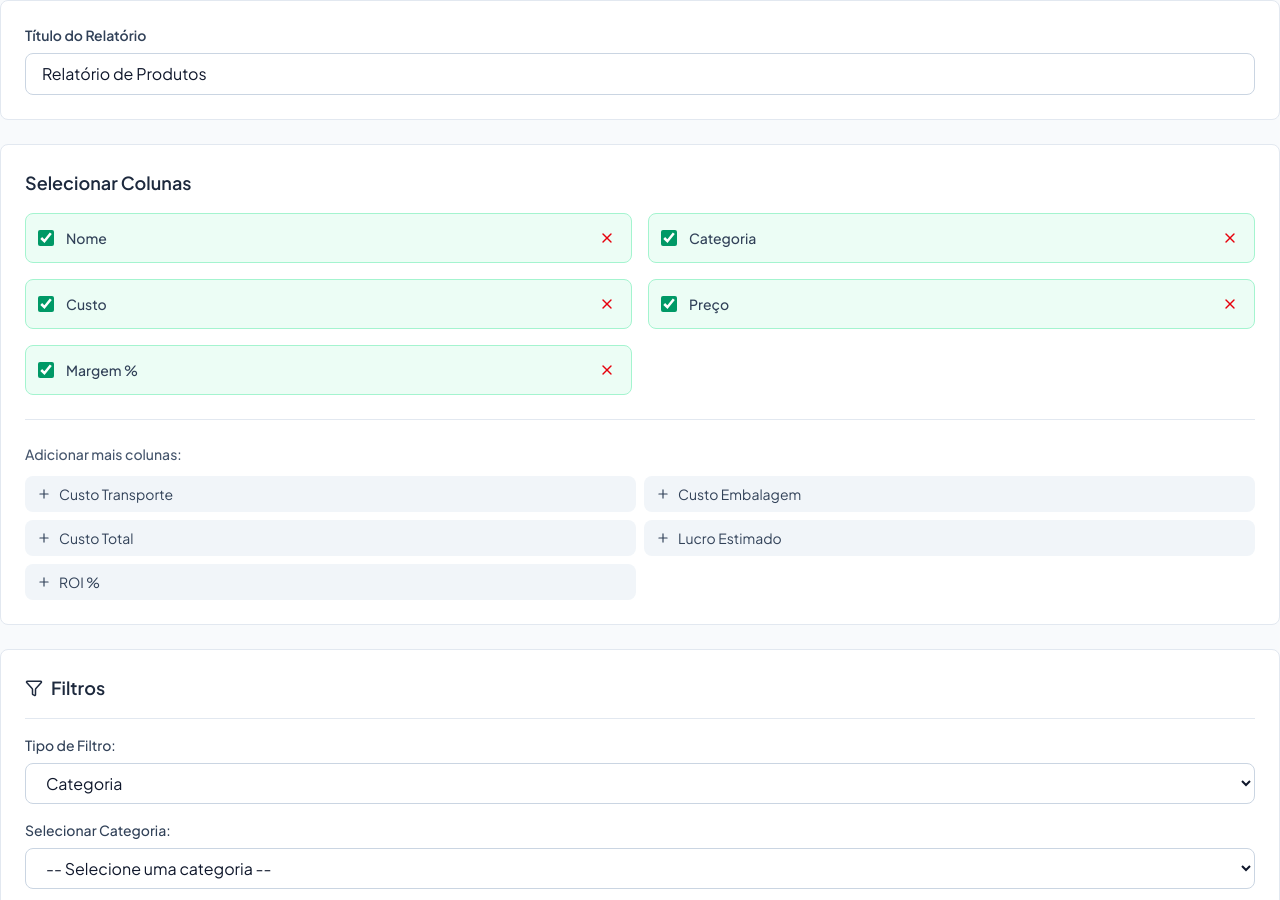
Scenario: ReportBuilder - Filter Functionality › Removing Filters › should remove filter when X button clicked
The image size is (1280, 900).
Note: Add a filter first
Select "Category A" in the dropdown showing "-- Selecione uma categoria --" below "Selecionar Categoria:". click: (640,868)
box: [25,848,1255,889]
(page scrolled)
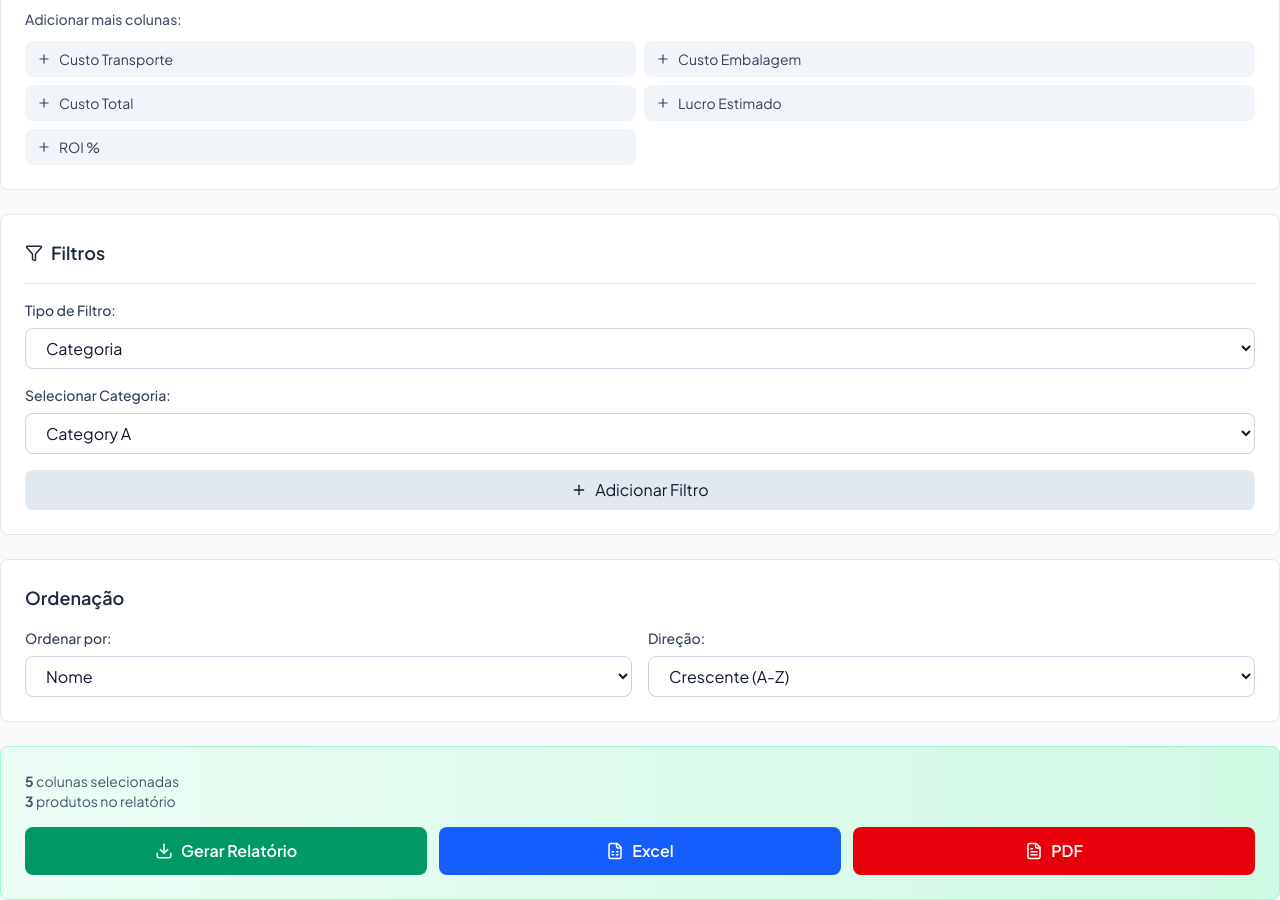
Click the button "Adicionar Filtro". click: (640,490)
box: [25,470,1255,510]
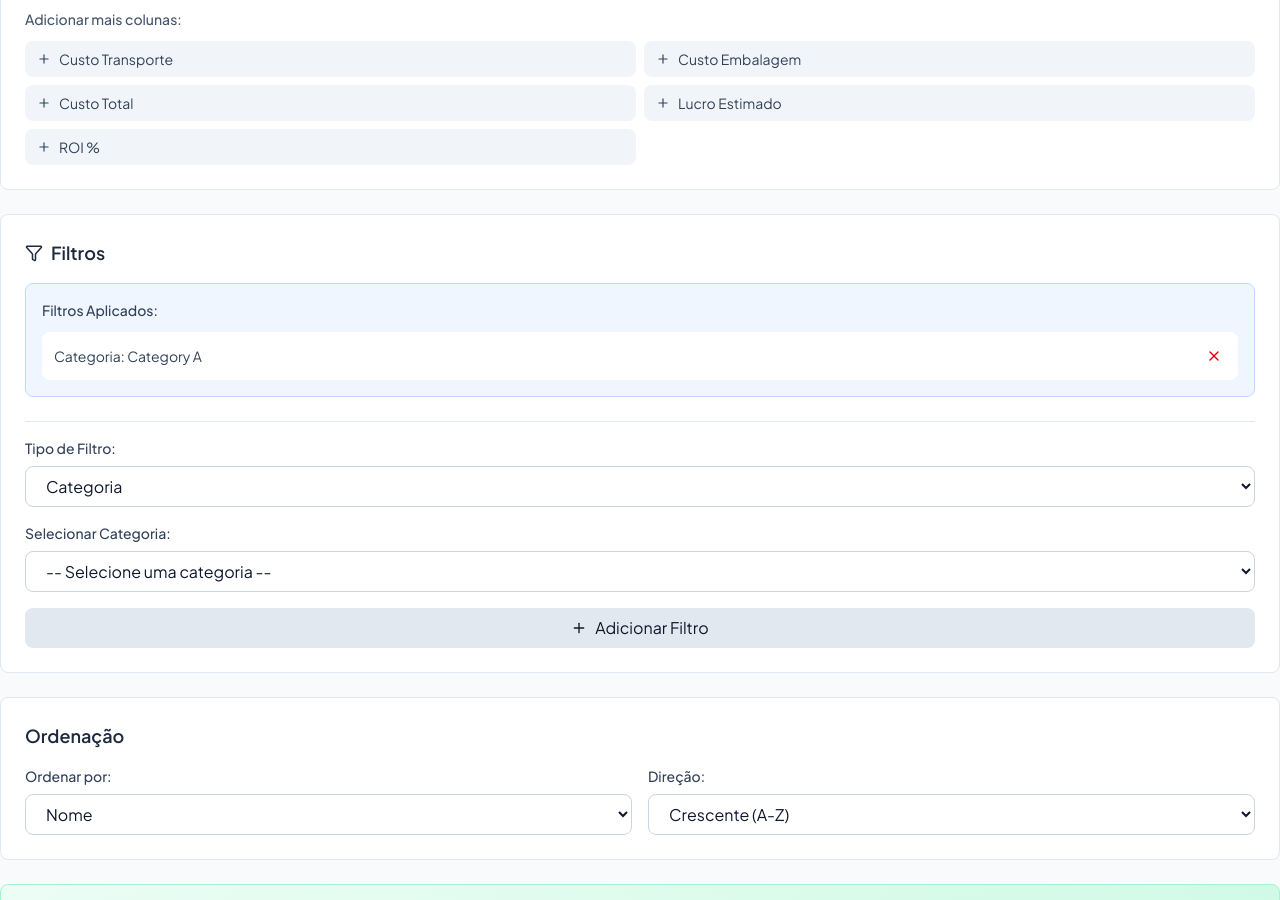
Now the text "Categoria: Category A" is shown, box [54,346,202,366]
Note: Remove the filter
Click the button titled "Remover filtro". click: (1214,356)
box: [1202,344,1226,368]
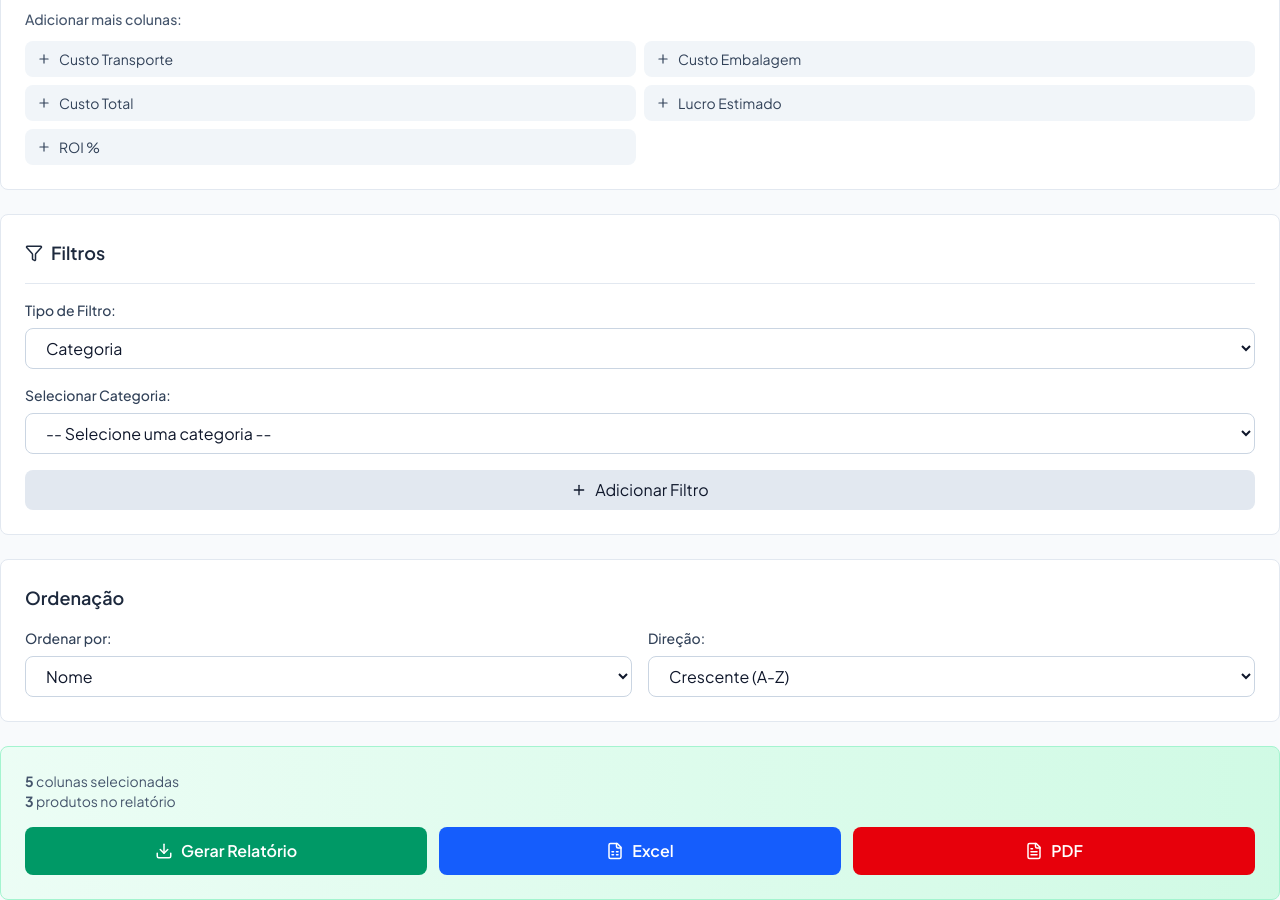
Now the text "Categoria: Category A" is gone
